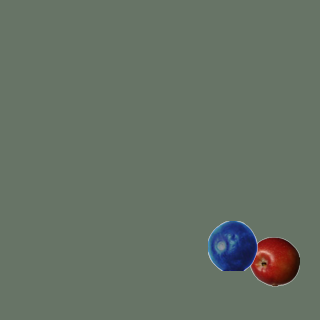Apple Braeburn: (249, 236, 299, 286)
Huckleberry: (207, 220, 257, 270)
